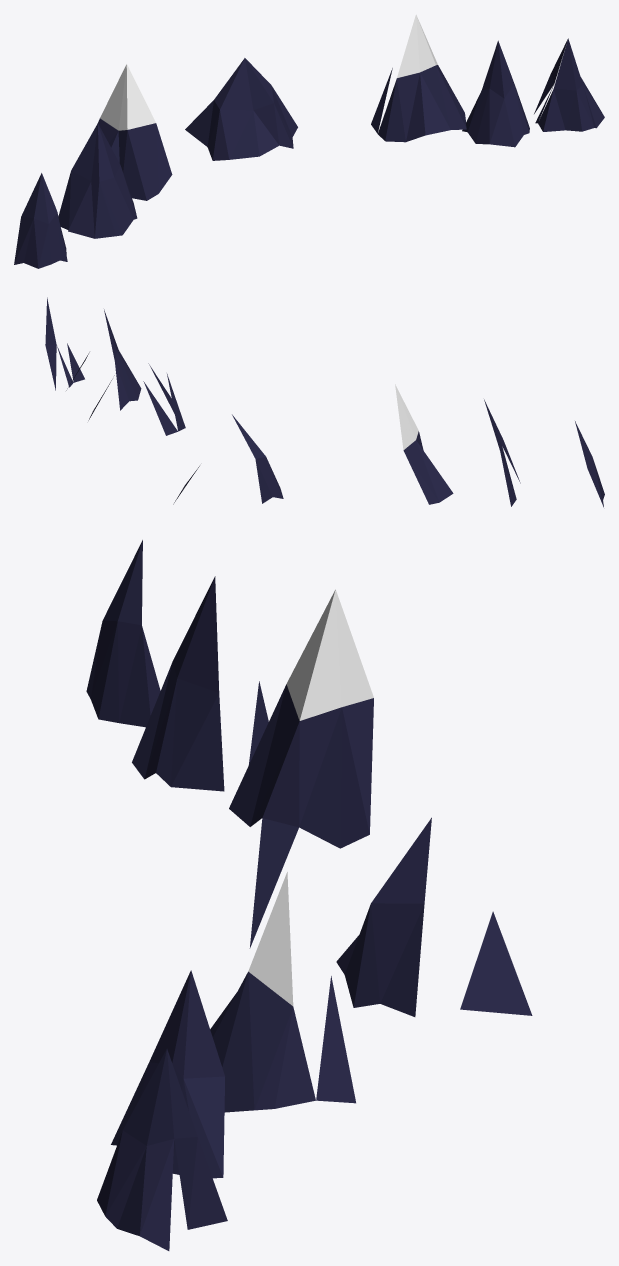
Rendered from peaks.glb.
3 renders of one model, top to bottom at view 1: azimuth 30°, elevation 25°; view 2: azimuth 150°, elevation 25°; view 3: azimuth 270°, elevation 25°, orthographic. The views are drawn at different scales.
Parts seen in each view (by area): view 1: Peaks; view 2: Peaks; view 3: Peaks.
Boxes of the visible parts, x1,y1,x2,y2 form: Peaks: (14,14,604,268); Peaks: (45,297,604,507); Peaks: (86,540,532,1250).
Size of the model in its own units: 27.92 by 7.11 by 9.26.
